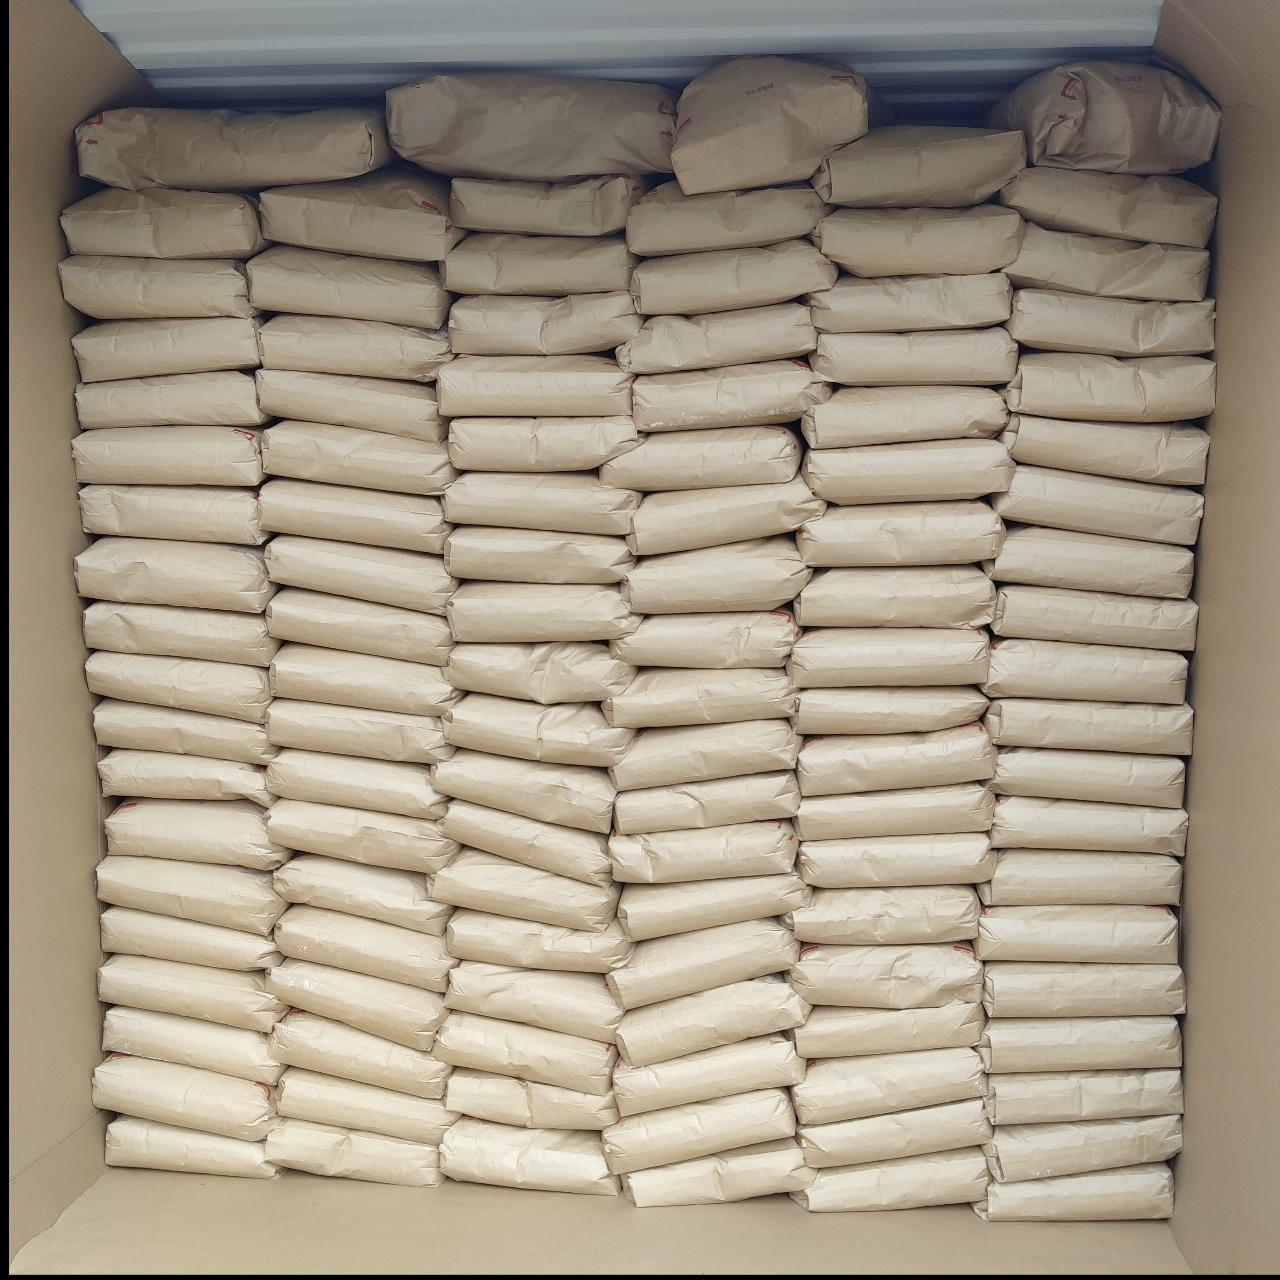sack: (388, 74, 674, 181), (674, 57, 869, 190), (988, 62, 1218, 173), (79, 108, 388, 188), (260, 166, 462, 260), (1000, 168, 1214, 246), (813, 128, 1022, 206), (608, 920, 798, 1006), (618, 976, 806, 1062), (248, 246, 450, 326), (604, 1090, 794, 1175), (992, 467, 1201, 542), (266, 960, 445, 1046), (1006, 224, 1206, 300), (628, 476, 822, 554), (614, 1034, 804, 1114), (275, 906, 454, 990), (270, 1010, 450, 1094), (94, 1056, 274, 1138), (983, 526, 1190, 598), (266, 536, 454, 614), (98, 856, 286, 934), (76, 538, 274, 612), (434, 1012, 614, 1092), (433, 750, 614, 830), (1002, 414, 1206, 484), (1005, 352, 1214, 420), (428, 850, 614, 926), (813, 204, 1022, 272), (632, 240, 836, 309), (628, 184, 828, 254), (1008, 288, 1212, 356), (622, 538, 810, 612), (274, 856, 450, 934), (634, 360, 830, 430), (100, 956, 286, 1030), (442, 694, 634, 765), (445, 962, 622, 1040), (263, 422, 454, 493), (62, 188, 266, 254), (105, 1008, 282, 1084), (270, 644, 459, 714), (275, 1068, 456, 1142), (618, 304, 813, 372), (794, 1048, 982, 1118), (440, 802, 606, 881), (268, 590, 450, 662), (798, 502, 1002, 566), (798, 724, 992, 792), (268, 799, 454, 870), (610, 720, 799, 788), (618, 872, 808, 940), (442, 1121, 617, 1194), (804, 440, 1012, 502), (105, 799, 288, 870), (260, 481, 445, 550), (799, 1099, 990, 1166), (990, 586, 1196, 648), (983, 1116, 1180, 1180), (258, 370, 444, 438), (260, 314, 452, 380), (983, 640, 1186, 702), (88, 652, 270, 720), (602, 425, 799, 488), (802, 386, 1006, 445), (794, 1148, 988, 1210), (268, 750, 445, 818), (624, 1141, 813, 1204), (62, 256, 254, 318), (442, 474, 638, 535), (796, 566, 994, 626), (790, 944, 980, 1006), (788, 628, 990, 686), (266, 700, 450, 762), (74, 318, 258, 380), (445, 910, 629, 972), (84, 602, 275, 662), (808, 274, 1010, 331), (992, 796, 1186, 855), (988, 748, 1182, 806), (452, 176, 646, 234), (445, 642, 634, 702), (972, 1164, 1172, 1220), (450, 292, 638, 352), (96, 700, 275, 762), (983, 700, 1190, 754), (604, 668, 796, 726), (442, 234, 634, 292), (76, 425, 264, 484), (438, 356, 629, 414), (792, 996, 982, 1054), (784, 886, 978, 942), (812, 328, 1014, 382), (978, 1017, 1180, 1070), (980, 850, 1180, 903), (79, 372, 266, 428), (102, 908, 278, 968), (986, 1070, 1180, 1124), (612, 610, 798, 666), (610, 822, 796, 878), (448, 583, 638, 638), (617, 772, 798, 830), (798, 784, 992, 838), (268, 1121, 438, 1182), (982, 962, 1182, 1014), (450, 416, 640, 470), (976, 906, 1175, 958), (799, 835, 996, 886), (82, 486, 266, 542), (445, 527, 629, 583), (445, 1068, 618, 1126), (105, 1116, 278, 1175), (100, 750, 270, 804), (794, 688, 983, 731)
